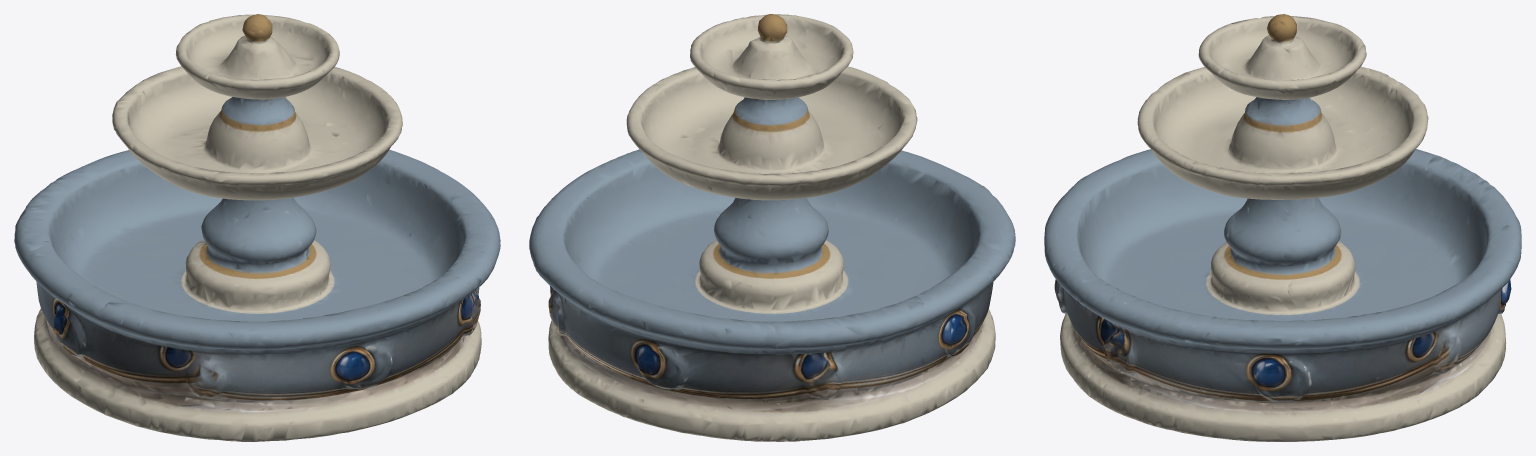
The model's file is plaza-fountain.glb.
The picture shows the model from 3 angles, left to right: view 1: azimuth 30°, elevation 25°; view 2: azimuth 150°, elevation 25°; view 3: azimuth 270°, elevation 25°; orthographic projection.
Visible parts, largest first — view 1: geometry_0; view 2: geometry_0; view 3: geometry_0.
Part boxes in pixels (left/top/right/bottom): geometry_0: left=14, top=14, right=500, bottom=441; geometry_0: left=529, top=14, right=1015, bottom=441; geometry_0: left=1044, top=14, right=1521, bottom=441.
Bounding box in the file's own units: 1.97 × 1.51 × 1.96.
Materials: 1 (1 with a texture image).
